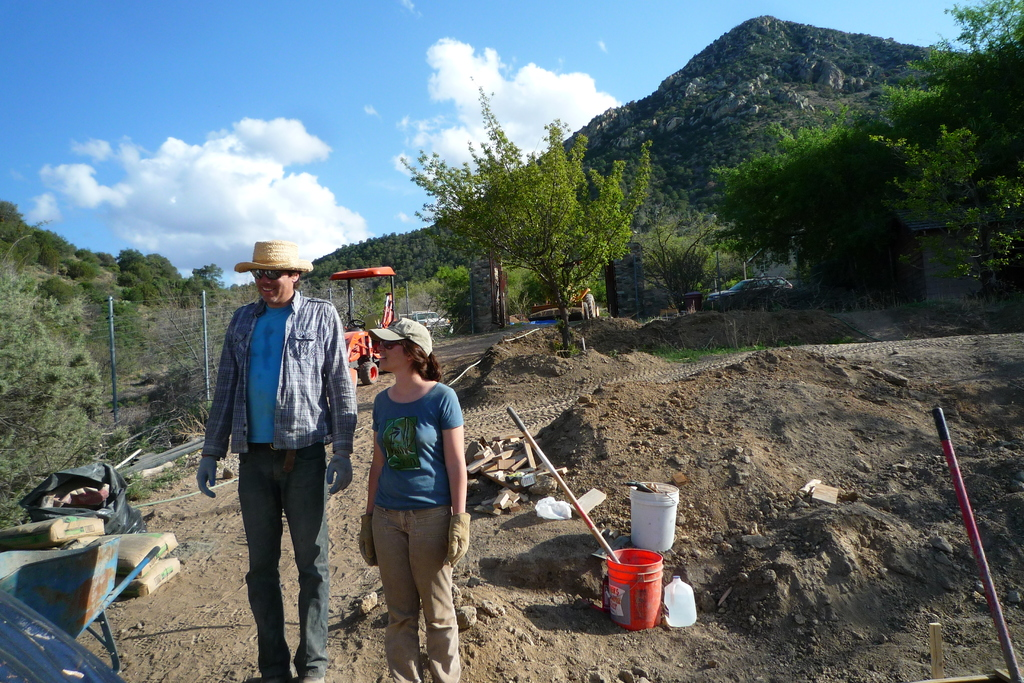Tree: (399, 83, 652, 362), (705, 99, 915, 317), (0, 196, 234, 383), (0, 259, 103, 526), (881, 124, 1023, 285), (917, 0, 1023, 184), (307, 209, 462, 298), (648, 233, 716, 313), (431, 263, 467, 319)
